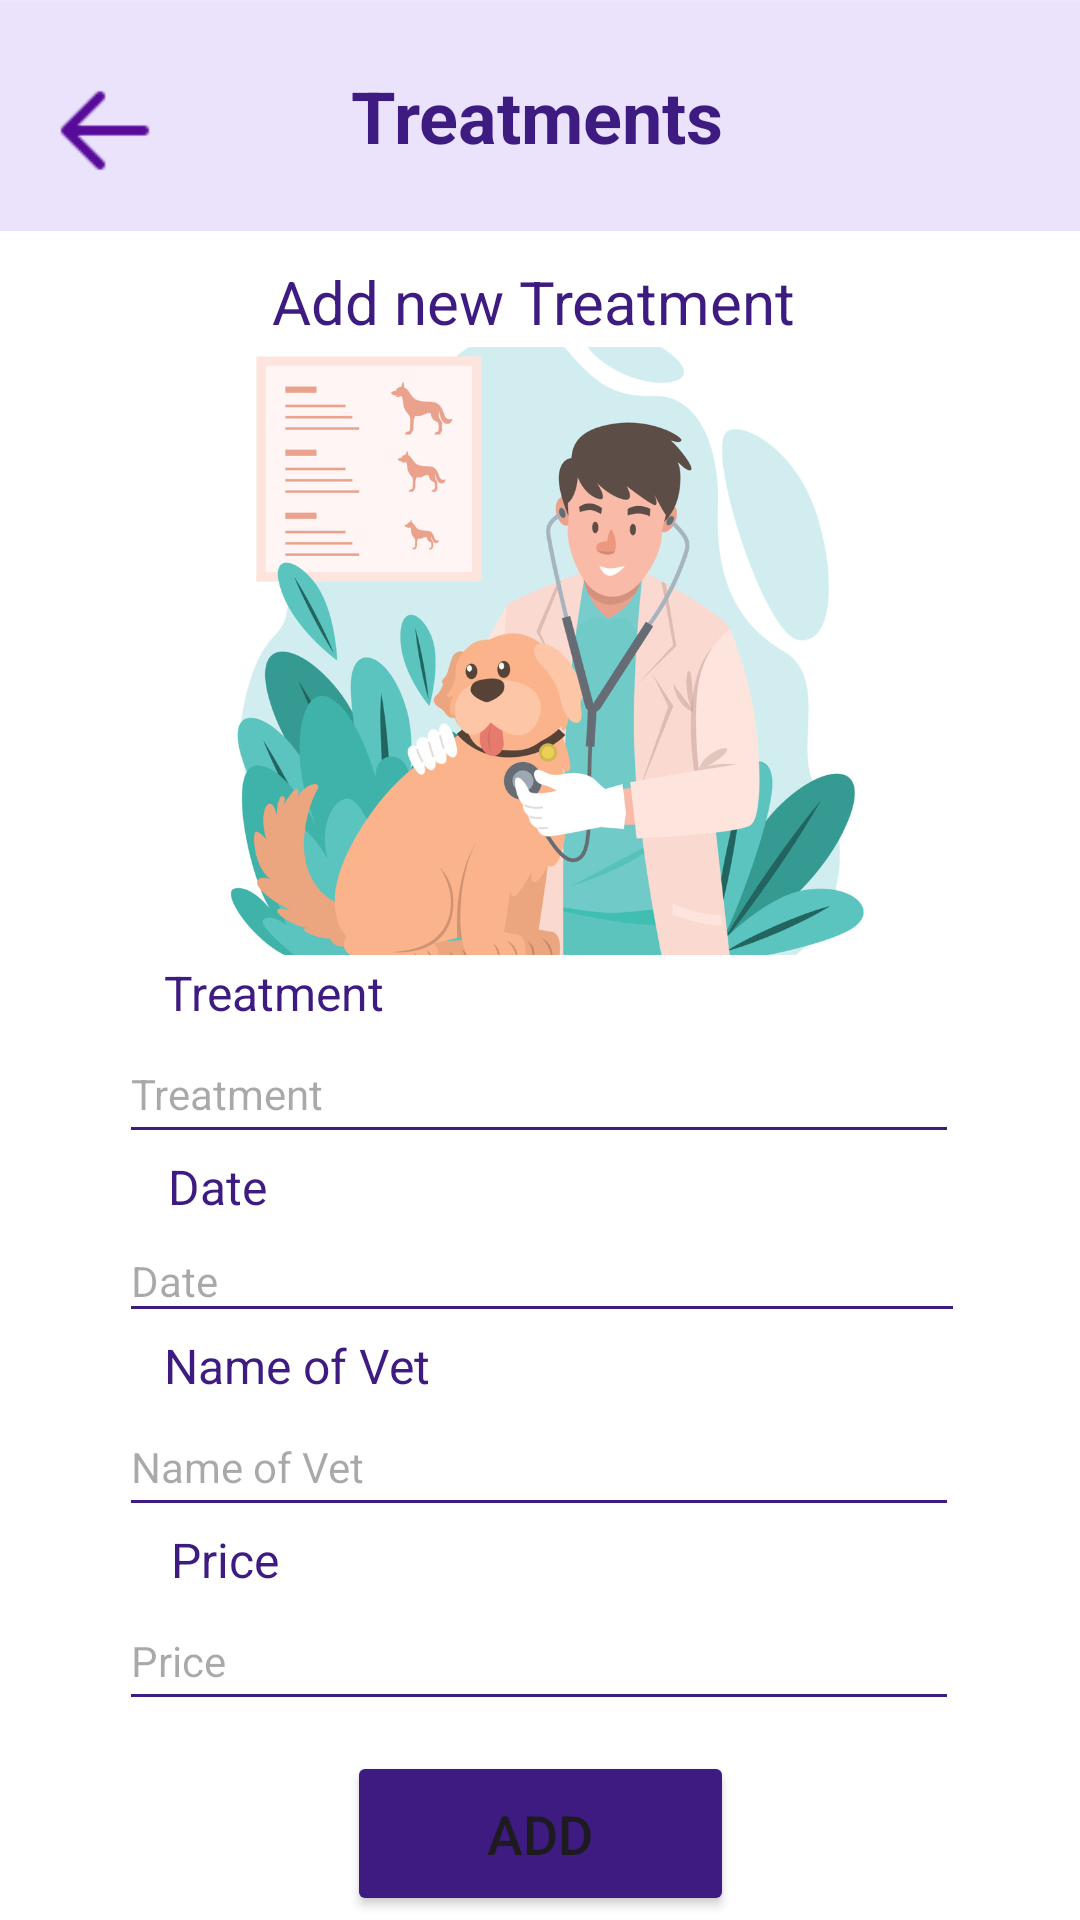

Screen size 1080w x 1920h. Icon name, then its center in pixels as (x,y):
arrowback: (105,130)
